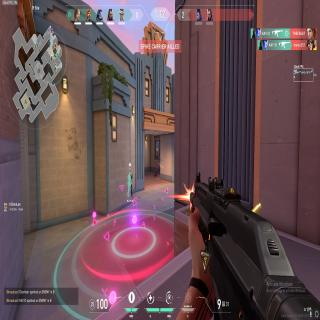ENEMY-BODY: (50, 24, 54, 36), (158, 160, 160, 174)
ENEMY-HEAD: (159, 161, 160, 163)
